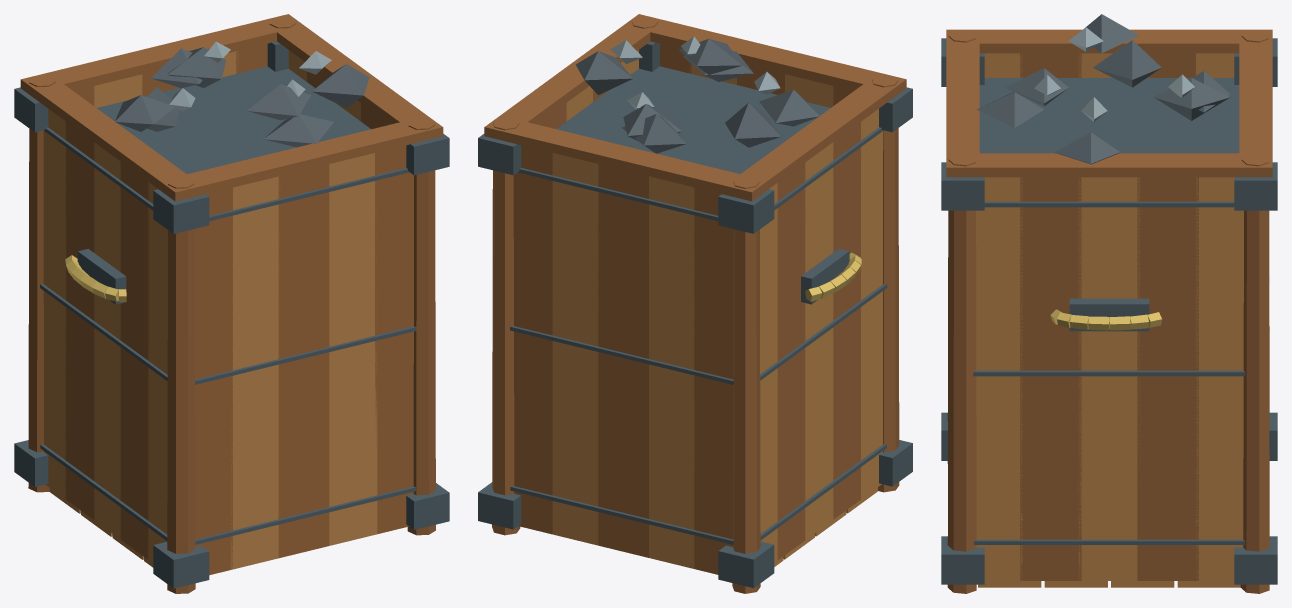
Rendered from ore_crate_heavy.glb.
3 views of the same model, side by side, from view 1: azimuth 30°, elevation 25°; view 2: azimuth 150°, elevation 25°; view 3: azimuth 270°, elevation 25° (orthographic). The views are drawn at different scales.
Visible parts, largest first — view 1: ore_crate_heavy.001; view 2: ore_crate_heavy.001; view 3: ore_crate_heavy.001.
Boxes of the visible parts, x1,y1,x2,y2 form: ore_crate_heavy.001: (14,14,449,593); ore_crate_heavy.001: (478,14,912,593); ore_crate_heavy.001: (941,14,1277,593).
Size of the model in its own units: 1.07 by 1.5 by 0.9757.
